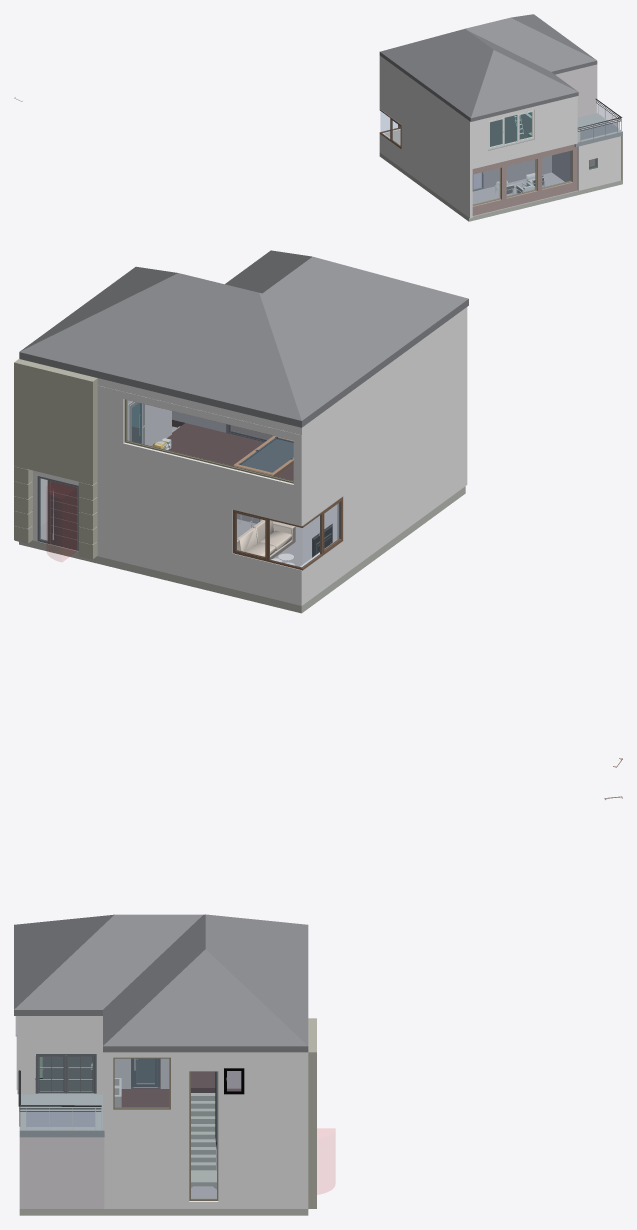
File: house.glb
3 views of the same model, one above another, from view 1: azimuth 30°, elevation 25°; view 2: azimuth 150°, elevation 25°; view 3: azimuth 270°, elevation 25° (orthographic). The views are drawn at different scales.
Parts seen in each view (by area): view 1: Wall Murs <254648 MUR EXT2RIEUR<, FamilyInstance Fen?tres Baie coulissante r?no 3 vantaux 2 ra; view 2: Wall Murs <254648 MUR EXT2RIEUR<, FamilyInstance Fen?tres Baie coulissante r?no 3 vantaux 2 ra; view 3: Wall Murs <254648 MUR EXT2RIEUR<, FamilyInstance Fen?tres Baie coulissante r?no 3 vantaux 2 ra.
Part boxes in pixels (<box>): Wall Murs <254648 MUR EXT2RIEUR<: <box>14,14,622,221</box>; FamilyInstance Fen?tres Baie coulissante r?no 3 vantaux 2 ra: <box>381,104,618,189</box>; Wall Murs <254648 MUR EXT2RIEUR<: <box>14,250,622,767</box>; FamilyInstance Fen?tres Baie coulissante r?no 3 vantaux 2 ra: <box>46,403,273,541</box>; Wall Murs <254648 MUR EXT2RIEUR<: <box>14,796,622,1215</box>; FamilyInstance Fen?tres Baie coulissante r?no 3 vantaux 2 ra: <box>26,1057,240,1126</box>.
Size of the model in its own units: 27386 by 8535 by 21110.
Materials: 2 (2 with a texture image).
